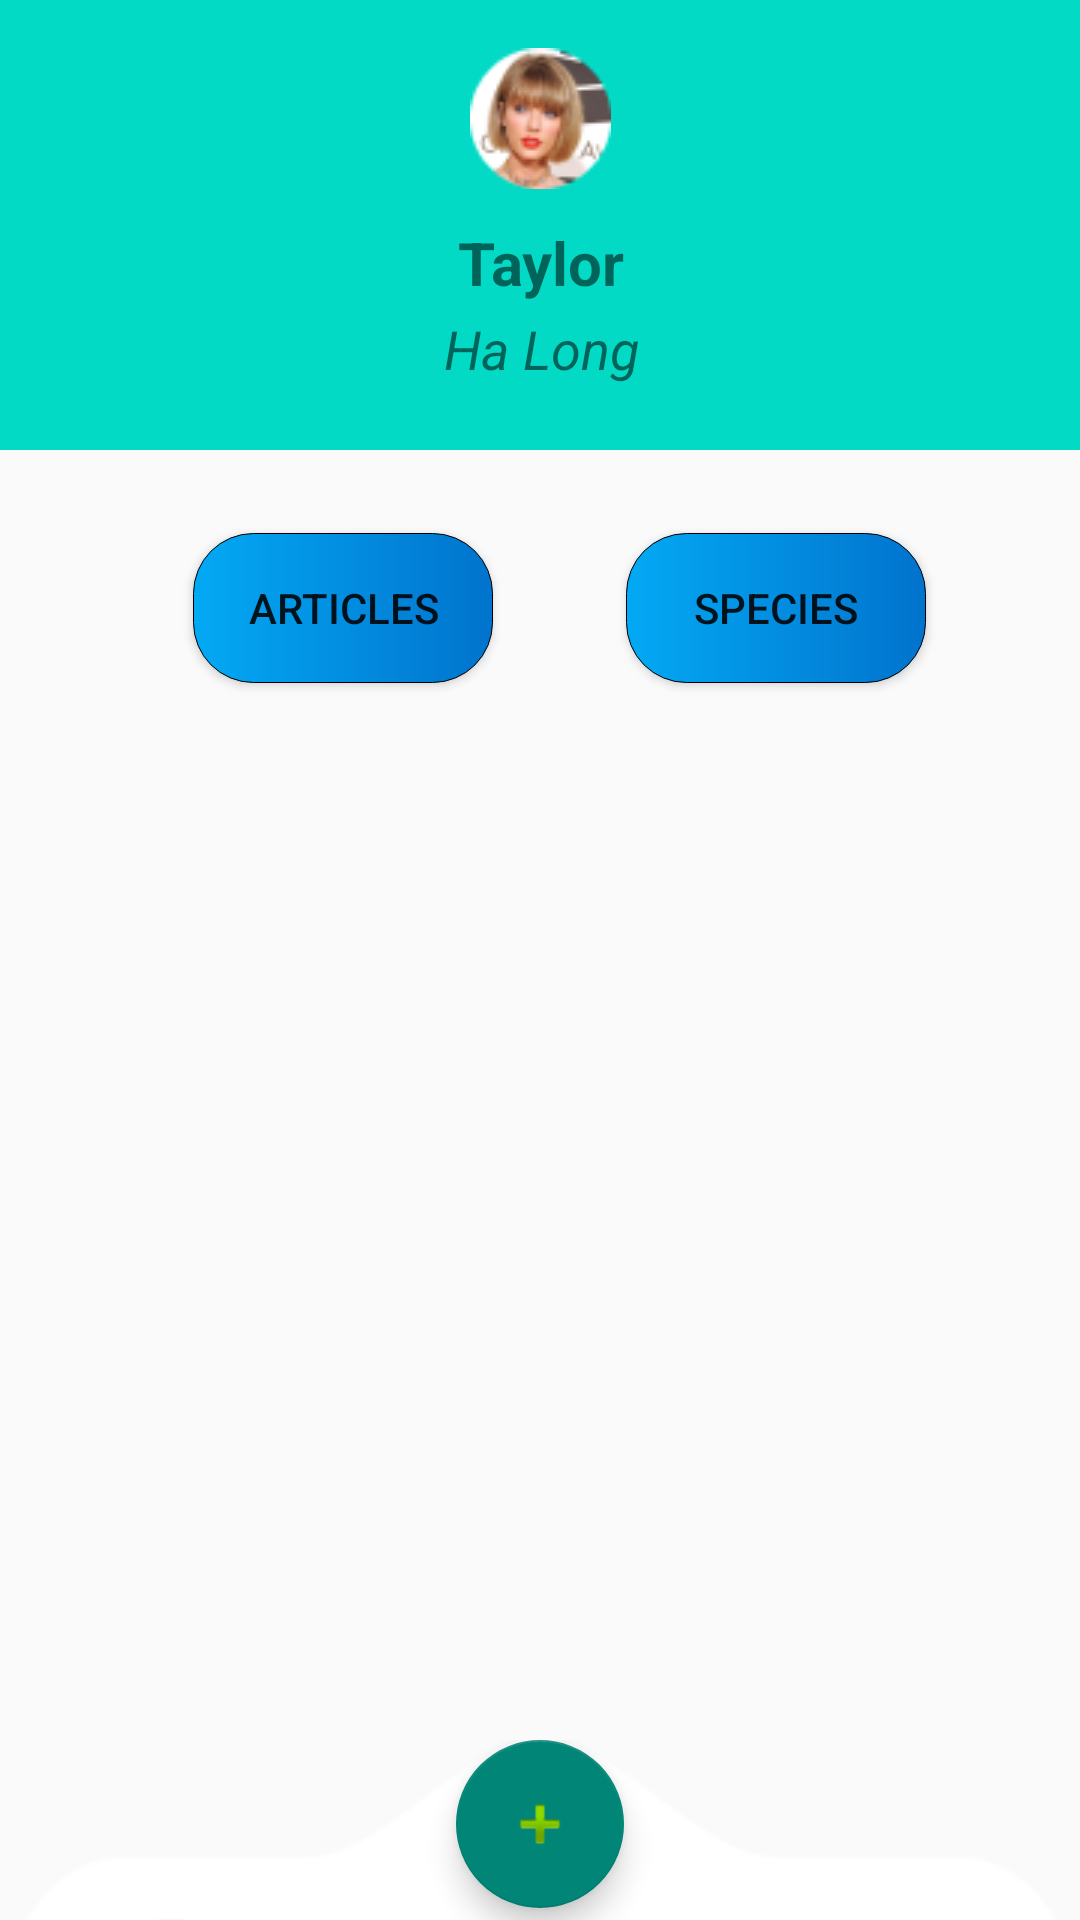

Where to tap for icons on this 1080*1920 app screen, as point (x, y):
add: point (540, 1824)
